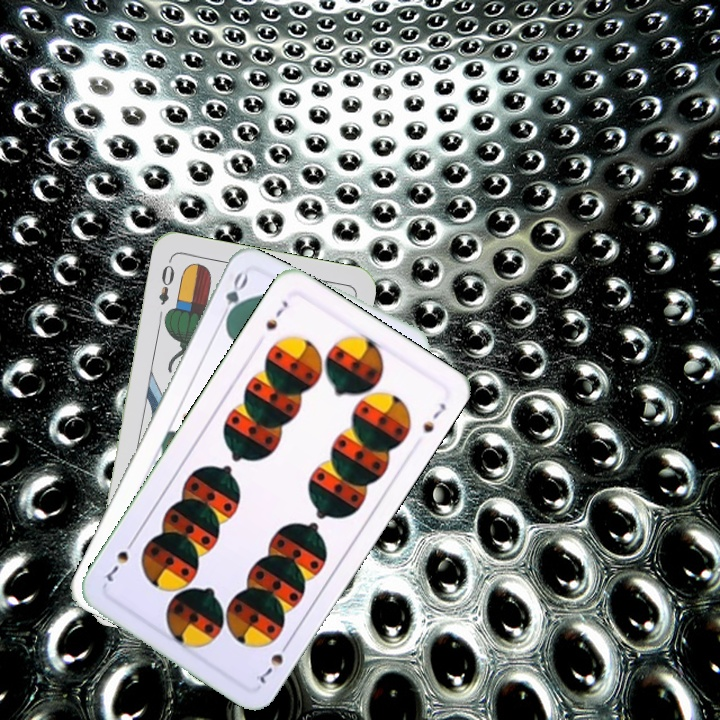EO: (154, 255, 177, 308)
GO: (215, 268, 251, 327)
S7: (251, 636, 293, 687), (261, 296, 291, 333)
